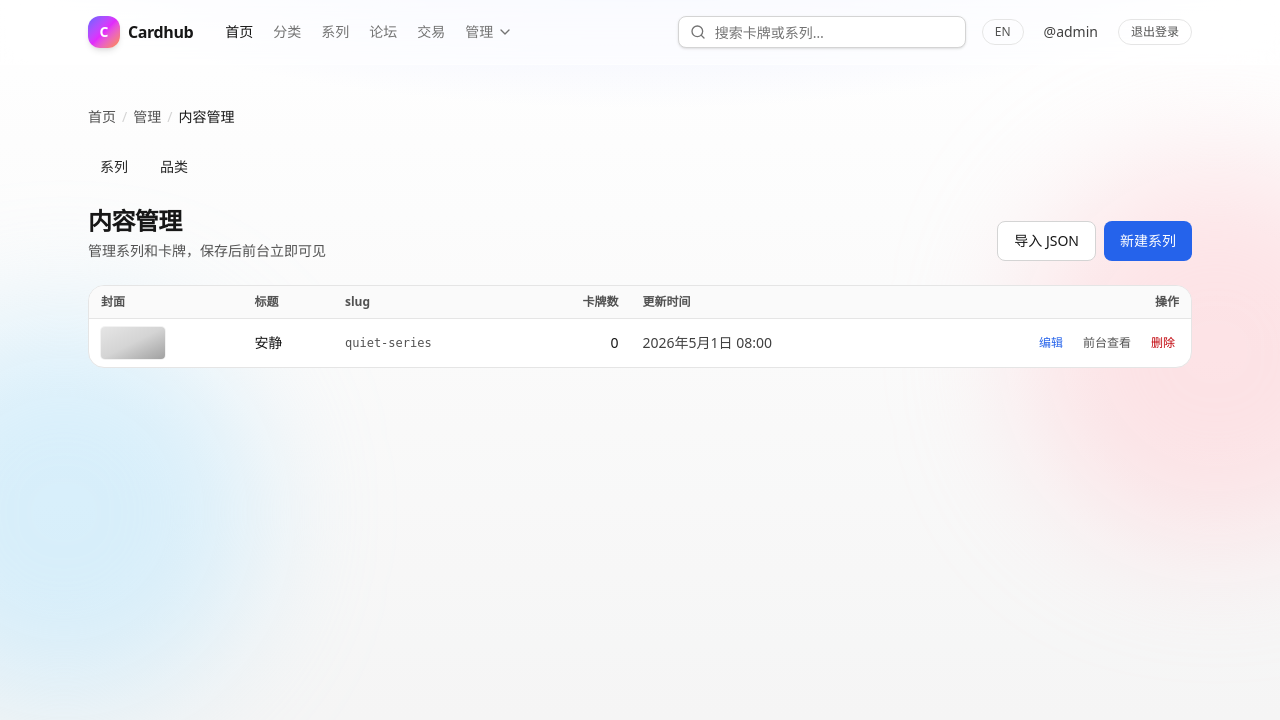
Test: CatalogSeriesPage delete › opens the force dialog with server counts when delete returns SERIES_HAS_CARDS
The image size is (1280, 720).
Click the button with aria-label "删除「安静」" at x=1163, y=343, box x1=1147 y1=331 x2=1179 y2=355
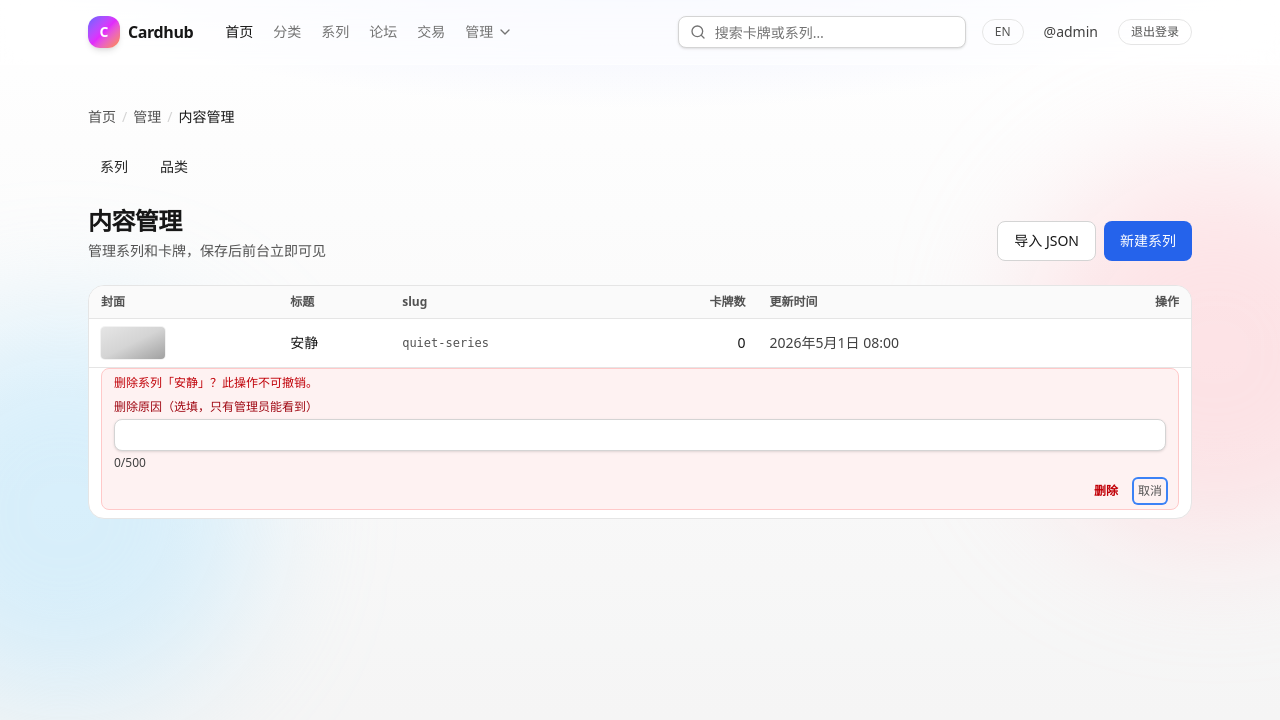
Click the button "删除" at x=1106, y=491, box x1=1090 y1=479 x2=1122 y2=503
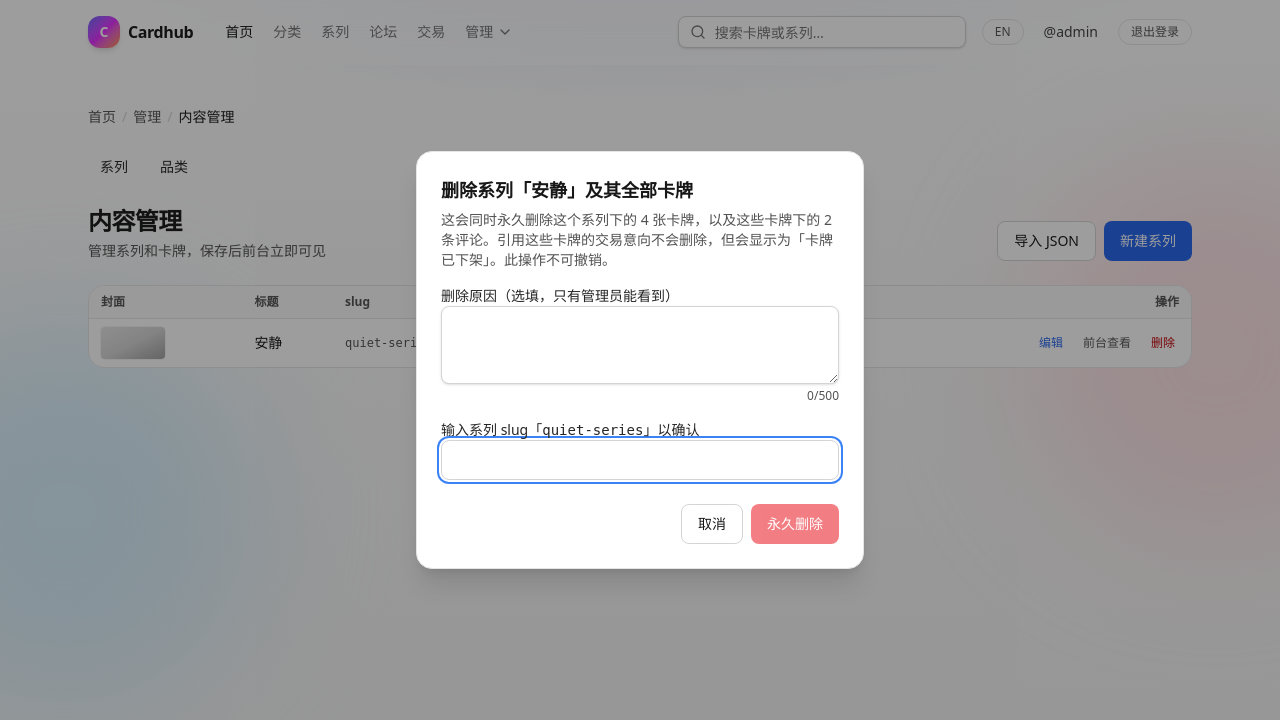
Expected: the dialog shows "4 张卡牌", x1=441 y1=210 x2=833 y2=269
Expected: the dialog shows "2 条评论", x1=441 y1=210 x2=833 y2=269
